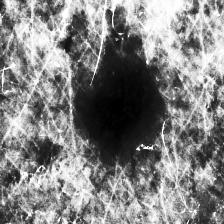Benign Marking or Mole: (86, 66, 154, 148)
